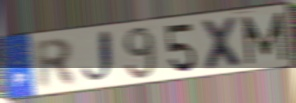5: (163, 23, 198, 74)
9: (121, 25, 157, 81)
J: (79, 28, 118, 88)
M: (240, 10, 289, 67)
R: (33, 37, 79, 92)
X: (199, 15, 248, 73)
